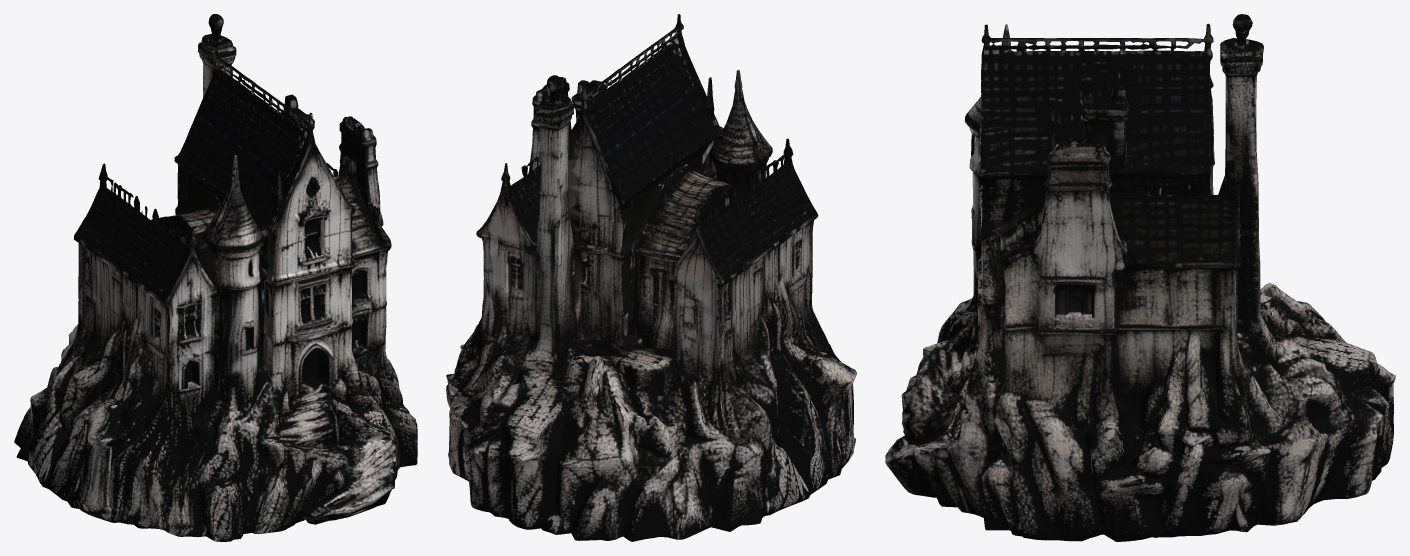
3 views of the same model, side by side, from view 1: azimuth 30°, elevation 25°; view 2: azimuth 150°, elevation 25°; view 3: azimuth 270°, elevation 25° (orthographic). The views are drawn at different scales.
Visible parts, largest first — view 1: textured_mesh; view 2: textured_mesh; view 3: textured_mesh.
Boxes of the visible parts, x1,y1,x2,y2 form: textured_mesh: [14, 14, 417, 541]; textured_mesh: [446, 14, 856, 541]; textured_mesh: [885, 14, 1395, 541].
Size of the model in its own units: 1.76 by 1.98 by 1.97.
1 material, 1 textured.
